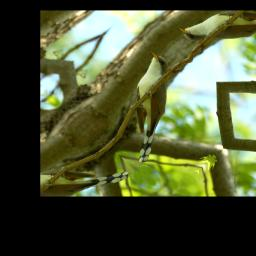Cuckoo: (82, 49, 215, 163)
